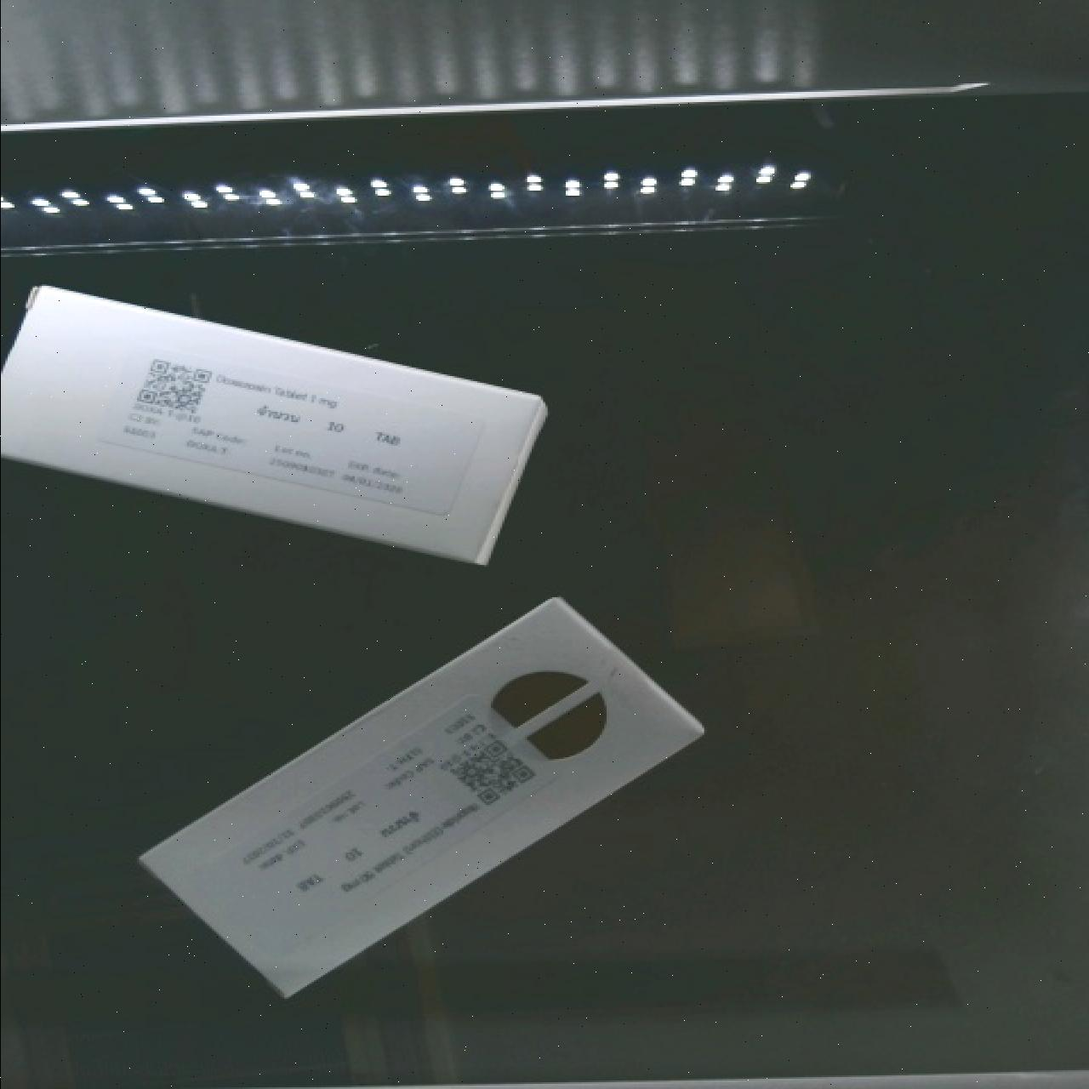qr_code: (421, 704, 564, 840), (113, 338, 227, 438)
